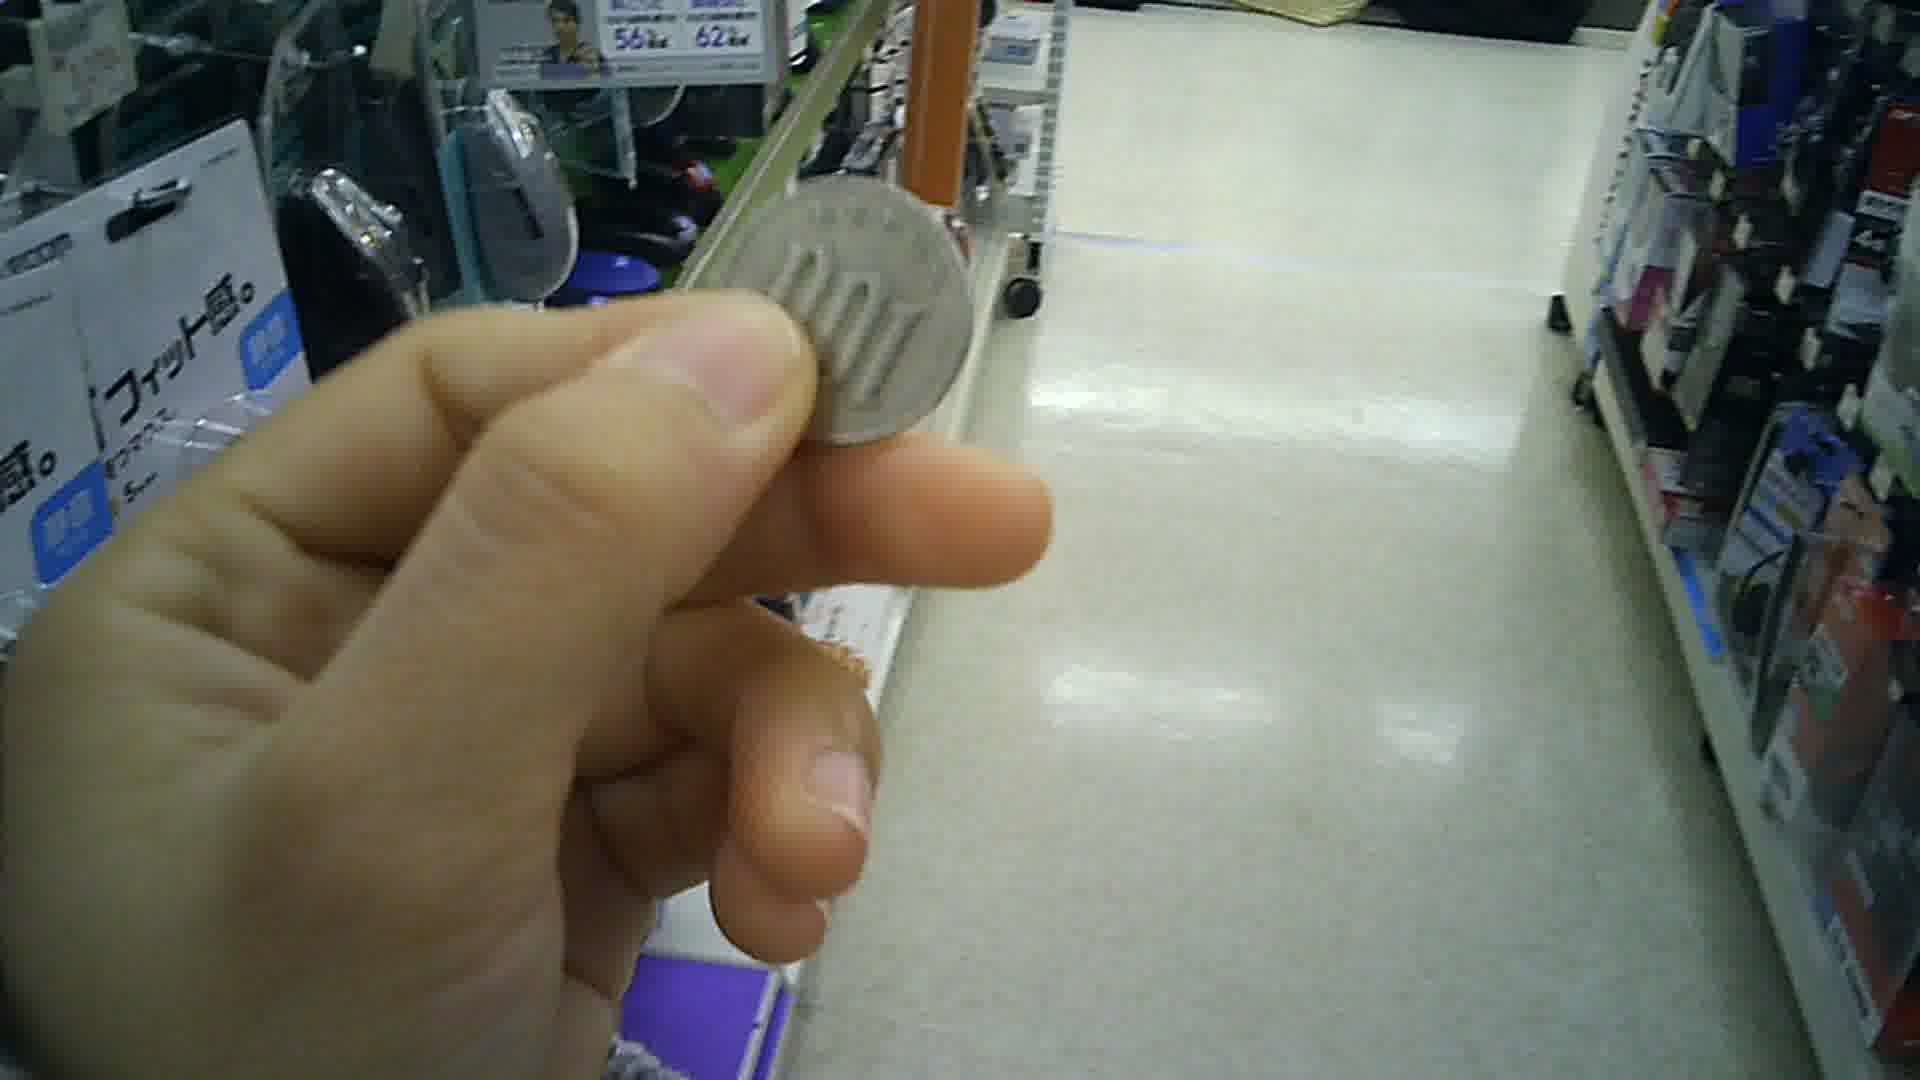100 Yen: (709, 171, 969, 444)
